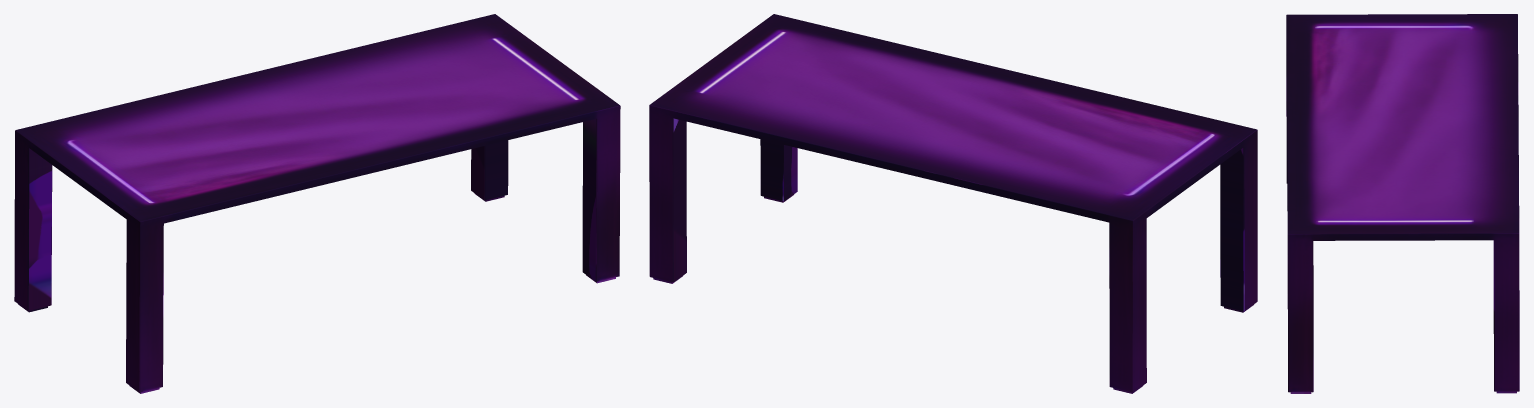
File: edited_mesh.glb
The picture shows the model from 3 angles, left to right: view 1: azimuth 30°, elevation 25°; view 2: azimuth 150°, elevation 25°; view 3: azimuth 270°, elevation 25°; orthographic projection. The views are drawn at different scales.
Visible parts, largest first — view 1: normalized_model.obj; view 2: normalized_model.obj; view 3: normalized_model.obj.
Part boxes in pixels (x1=…): normalized_model.obj: x1=14, y1=14, x2=620, y2=393; normalized_model.obj: x1=649, y1=14, x2=1257, y2=393; normalized_model.obj: x1=1286, y1=14, x2=1519, y2=393.
Size of the model in its own units: 2 by 0.6972 by 0.9035.
1 material, 1 textured.
